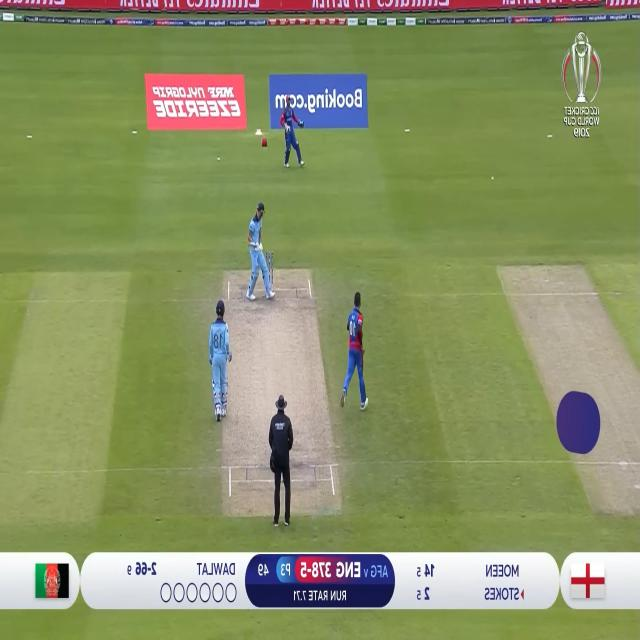ball: (486, 172, 497, 186)
